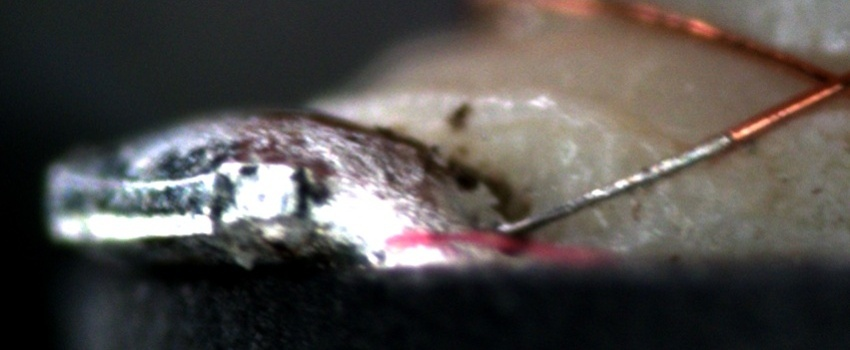CL: (783, 54, 847, 113)
TS: (496, 131, 735, 236)
TTCW: (500, 107, 772, 233)
